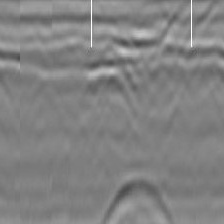Utility: (101, 173, 177, 224)
